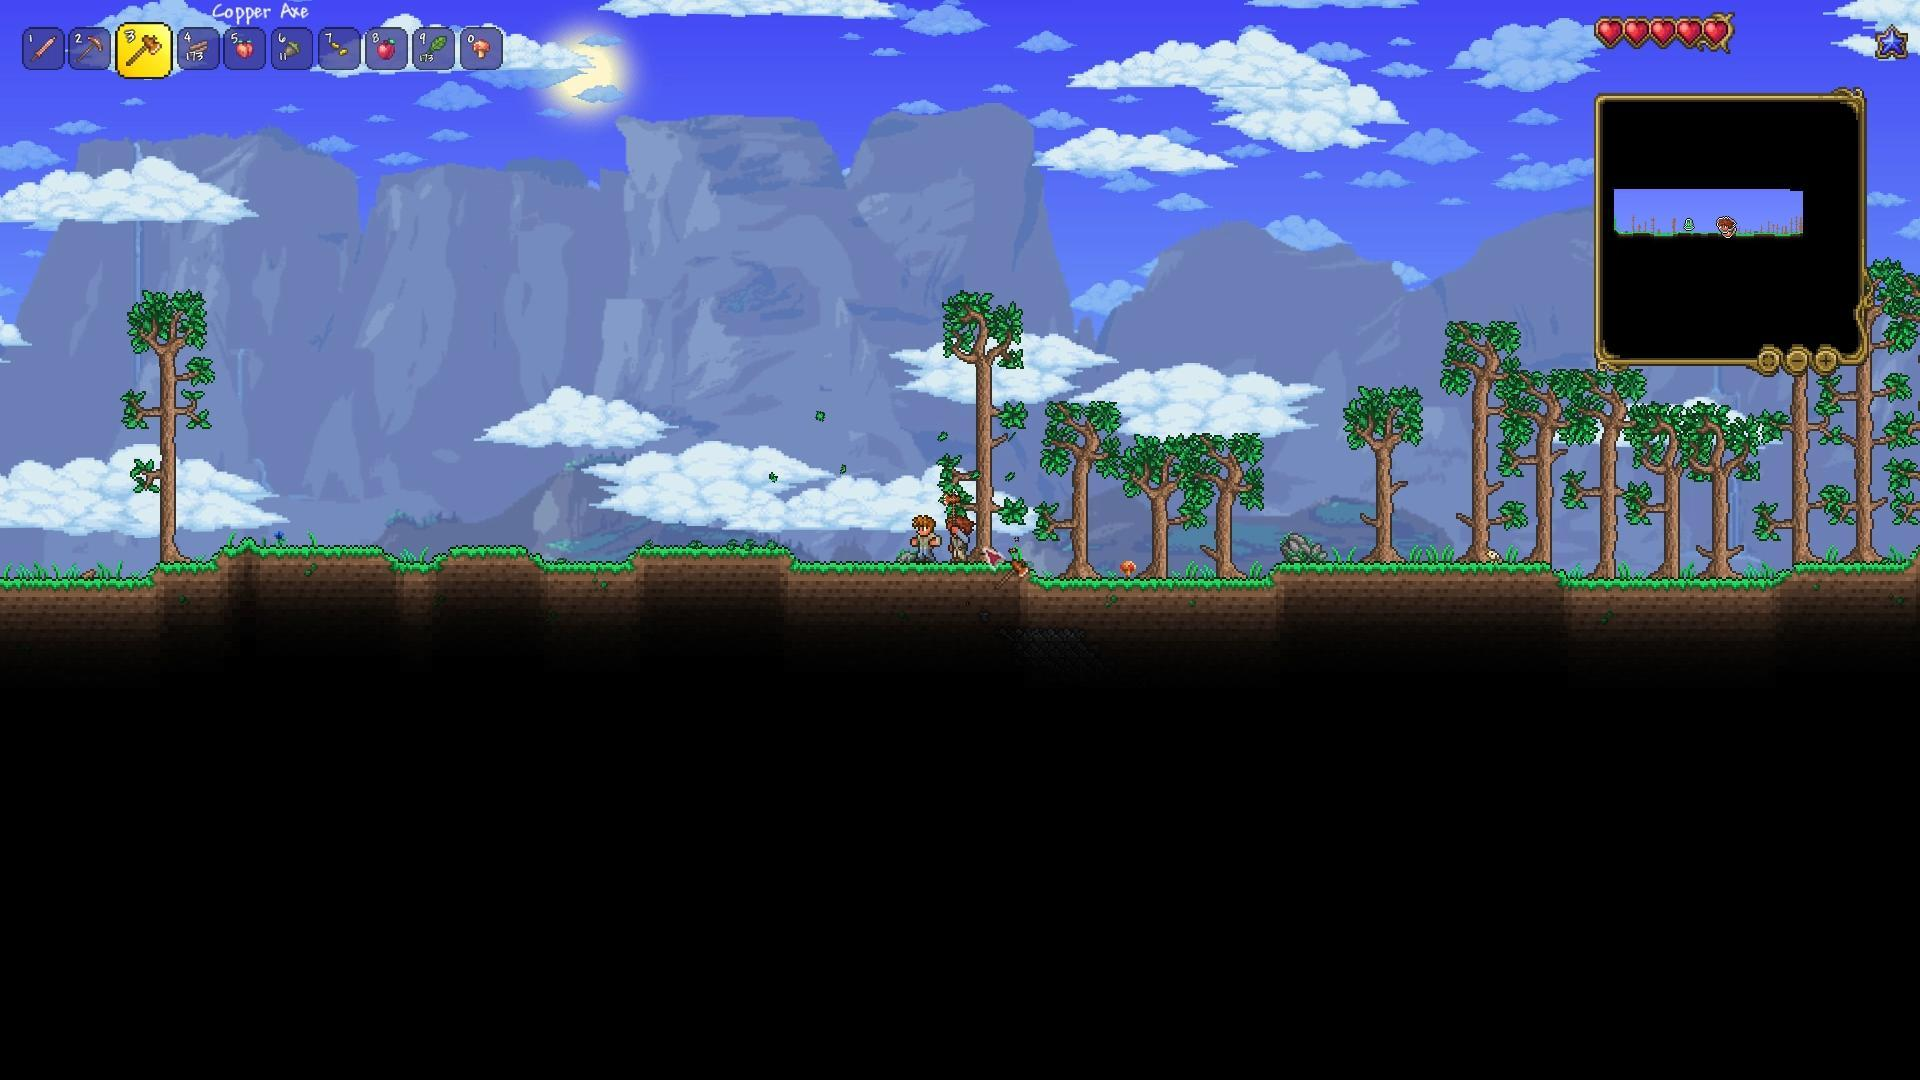dirt: (223, 534, 790, 574), (1548, 563, 1788, 620), (1006, 564, 1283, 612), (0, 546, 164, 613), (777, 554, 1029, 593), (1280, 554, 1563, 587), (1782, 556, 1920, 587), (152, 549, 233, 588)
